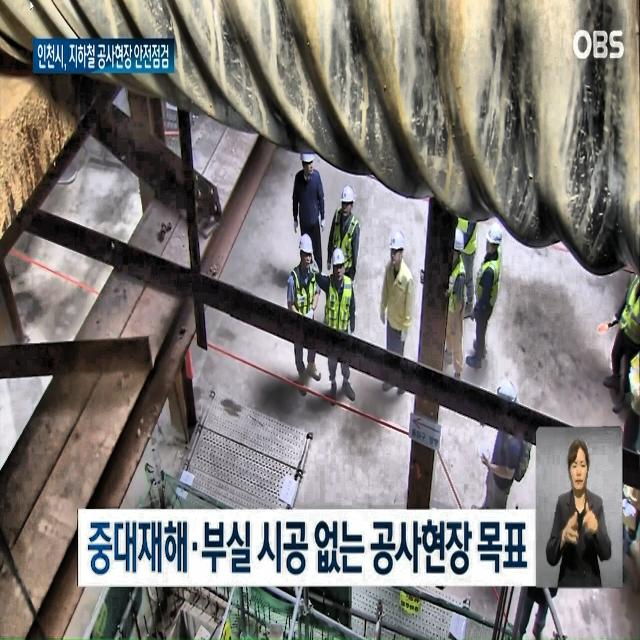safety_helmet: (377, 214, 411, 252), (482, 210, 512, 250), (299, 146, 327, 188), (444, 217, 470, 260), (330, 237, 352, 271), (298, 234, 322, 260), (338, 176, 358, 206)
safety_jacket: (328, 212, 379, 296), (286, 268, 321, 349), (329, 276, 363, 359), (614, 260, 638, 354), (475, 252, 502, 325), (446, 266, 471, 318)
